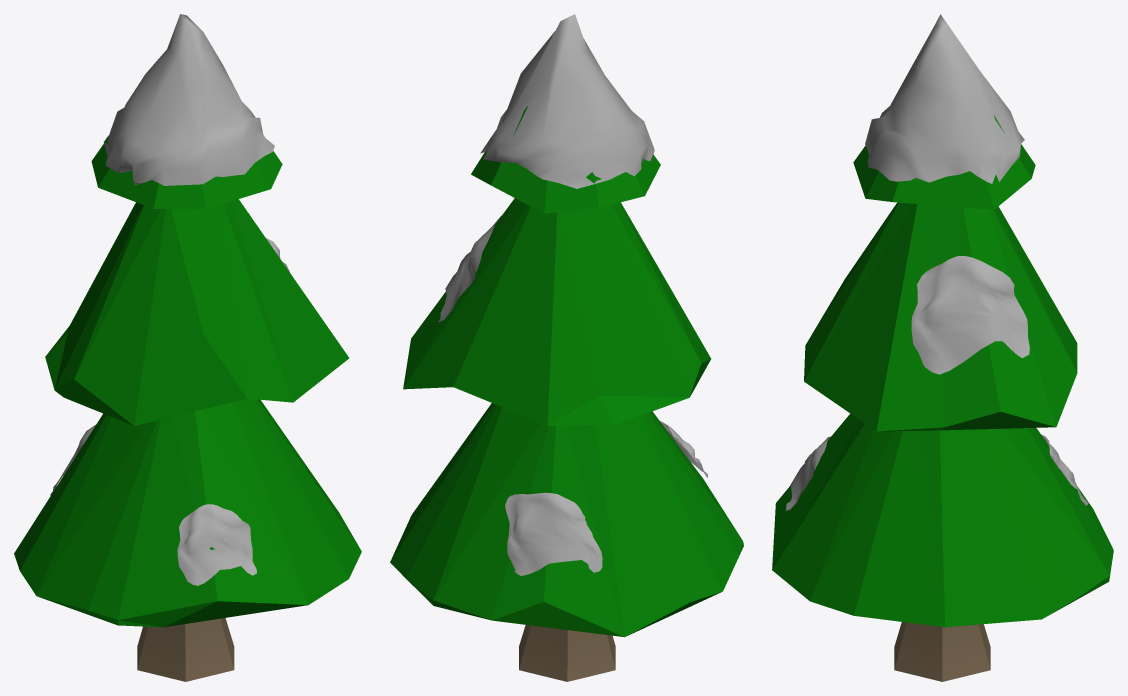
Rendered from sapin_neige.fbx.
3 views of the same model, side by side, from view 1: azimuth 30°, elevation 25°; view 2: azimuth 150°, elevation 25°; view 3: azimuth 270°, elevation 25° (orthographic).
Parts seen in each view (by area): view 1: sapin; view 2: sapin; view 3: sapin.
Boxes of the visible parts, x1,y1,x2,y2 form: sapin: [14, 14, 361, 681]; sapin: [390, 14, 743, 681]; sapin: [772, 14, 1113, 681].
Bounding box in the file's own units: 1.92 × 3.86 × 1.86.
